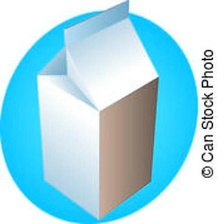carton: (28, 0, 165, 220)
